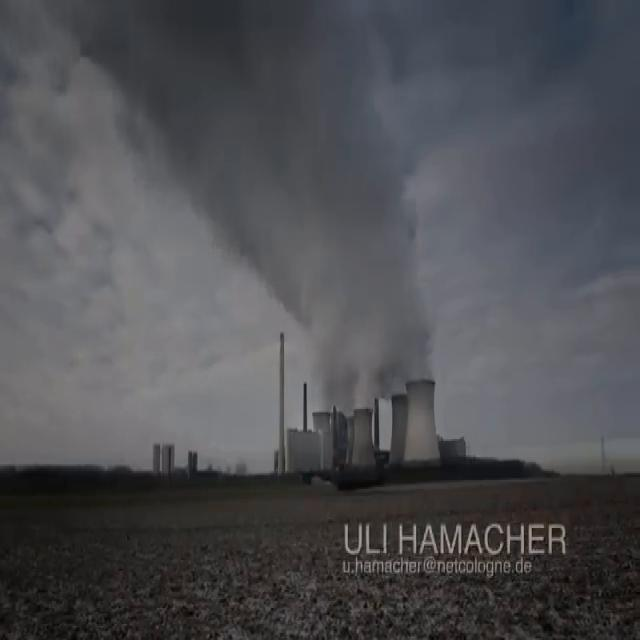smoke: (74, 0, 430, 391)
